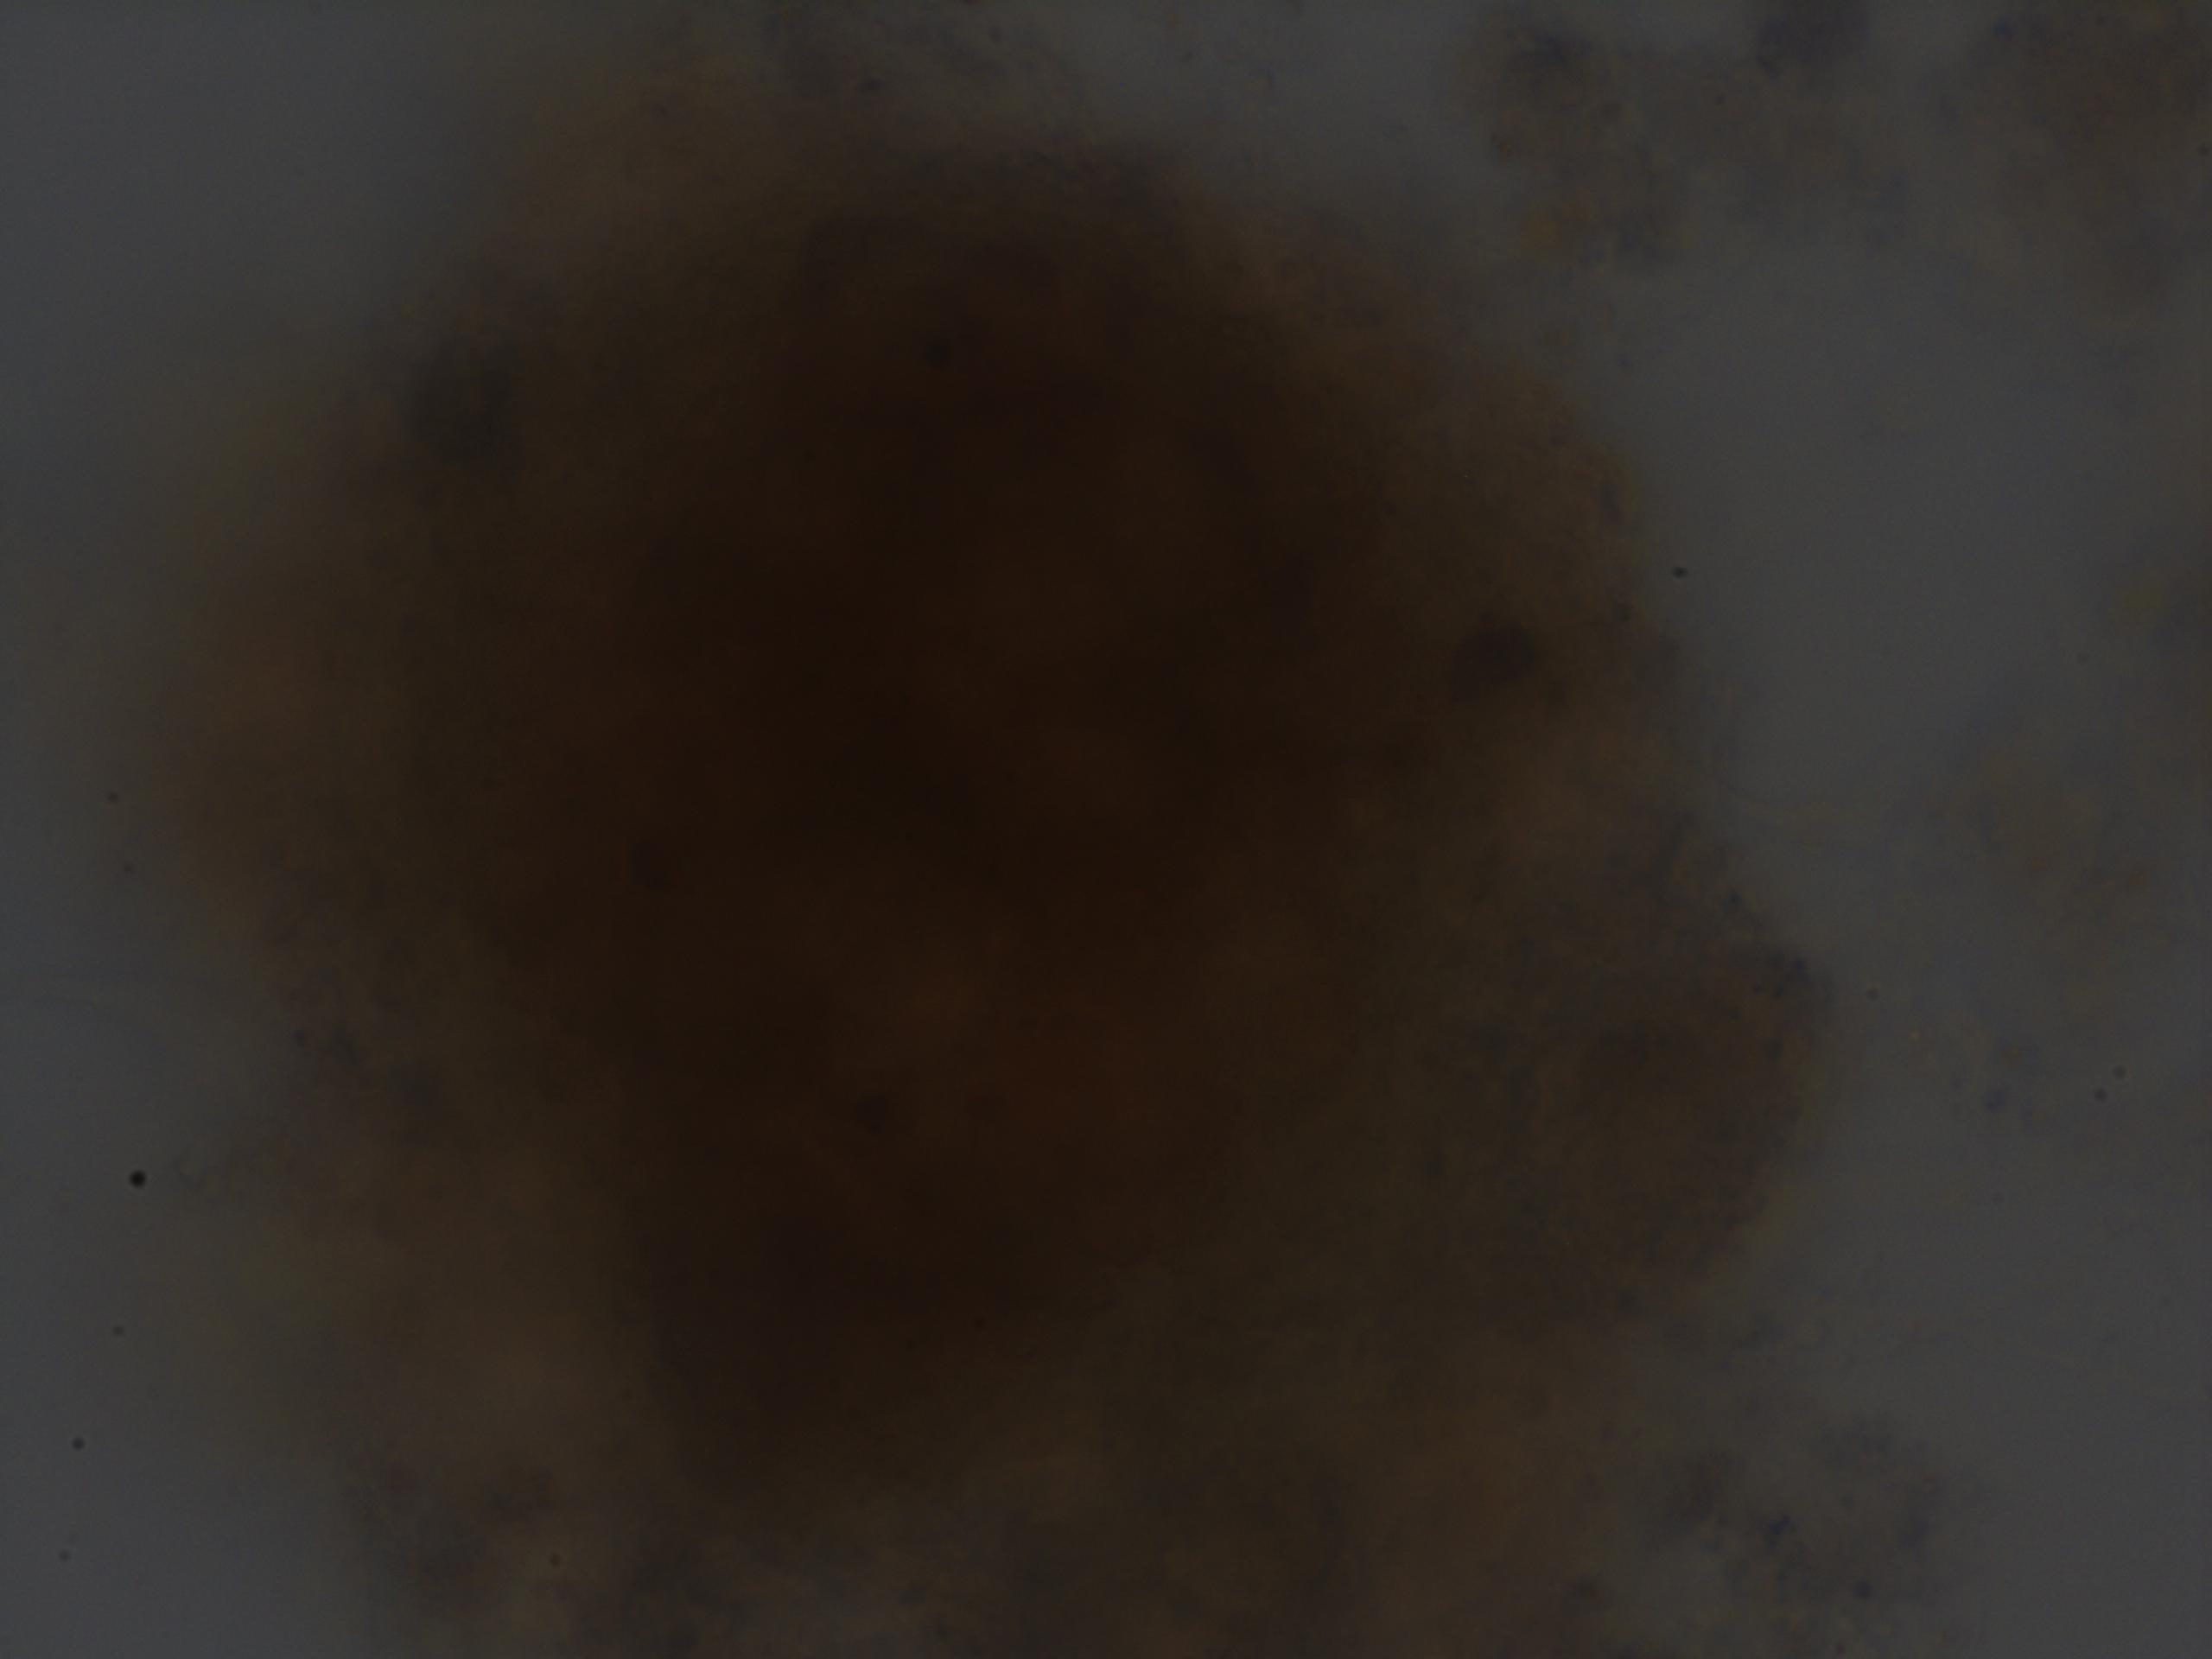spherical_floc: (171, 122, 1822, 1659)
